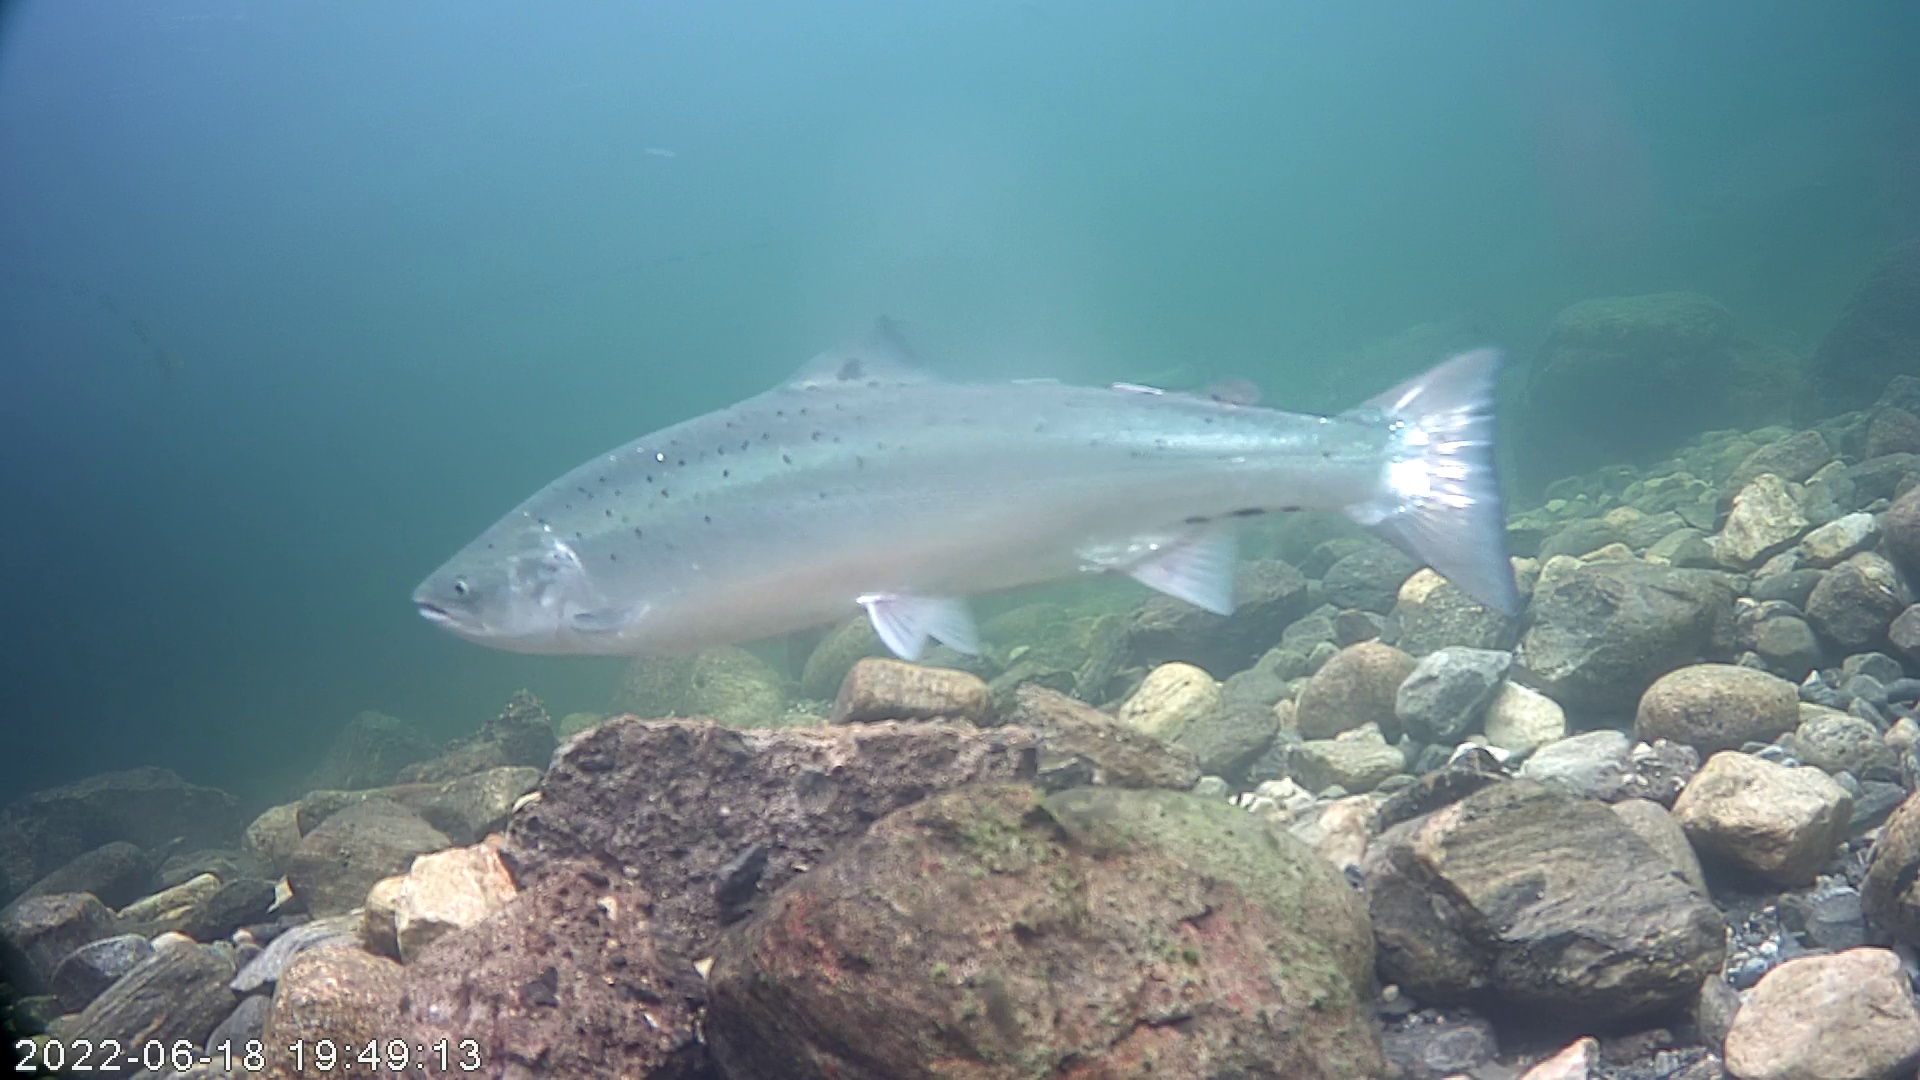salmon: (410, 313, 1527, 666)
